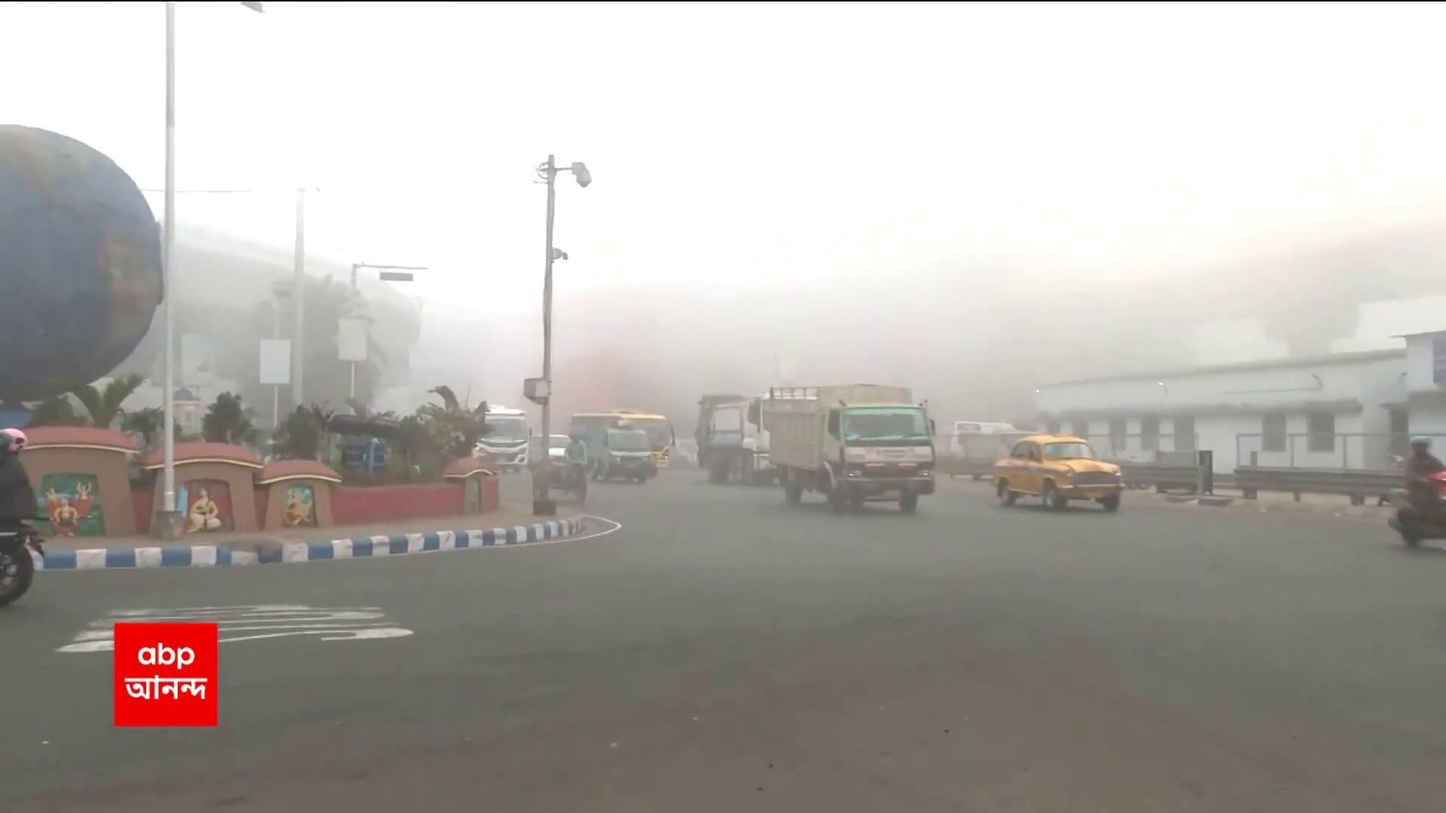Car: (990, 433, 1124, 519)
Truck: (763, 378, 935, 517)
